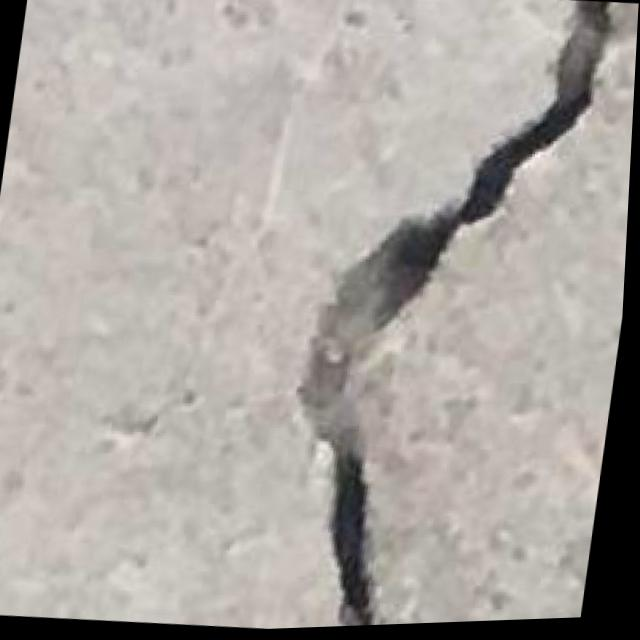Crack: (268, 0, 616, 631)
